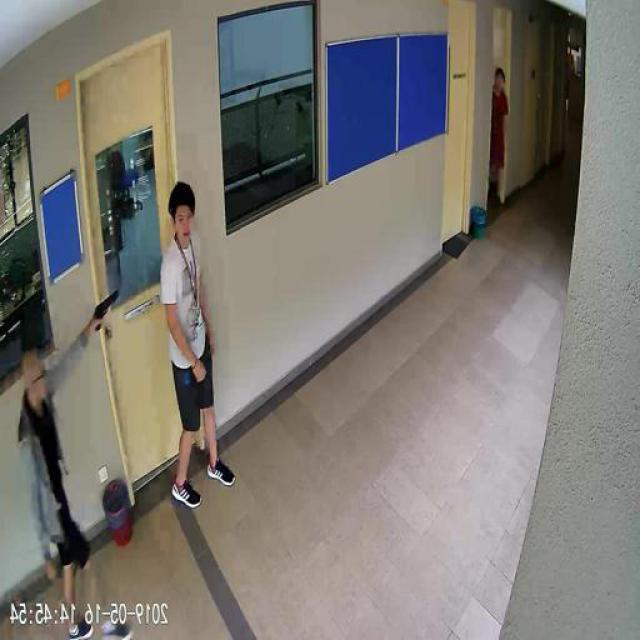Gun: (94, 285, 120, 331)
